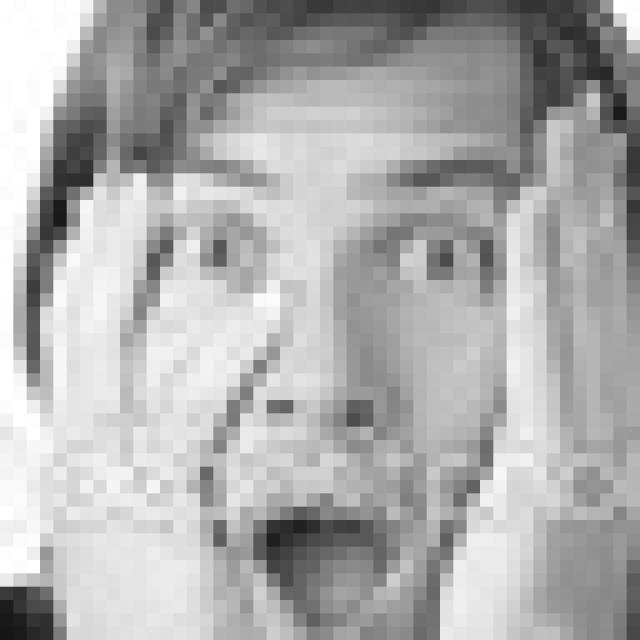surprise: (165, 129, 519, 640)
